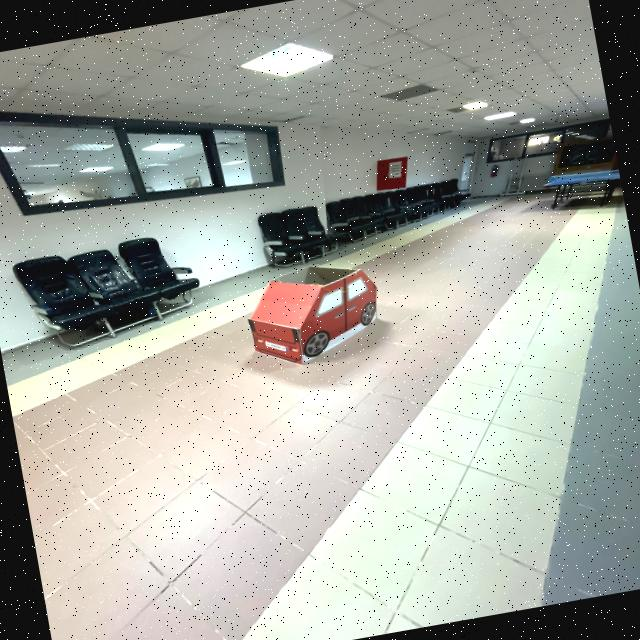red_car: (234, 251, 397, 380)
